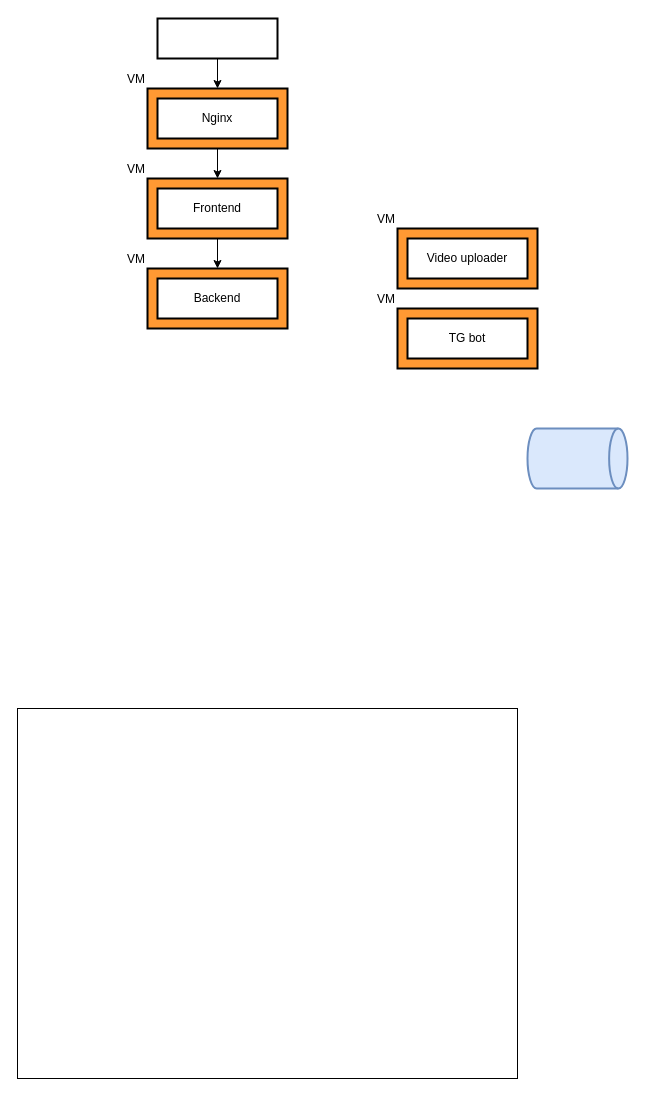
The diagram is 646 pixels wide and 1096 high, and some of its shapes have lost their labels. The shapes that lost their labels are listed below. From the top down, each one's centre as x and y in pixels, then its label:
the point at 217,38: Web Browser
the point at 577,458: DWH
